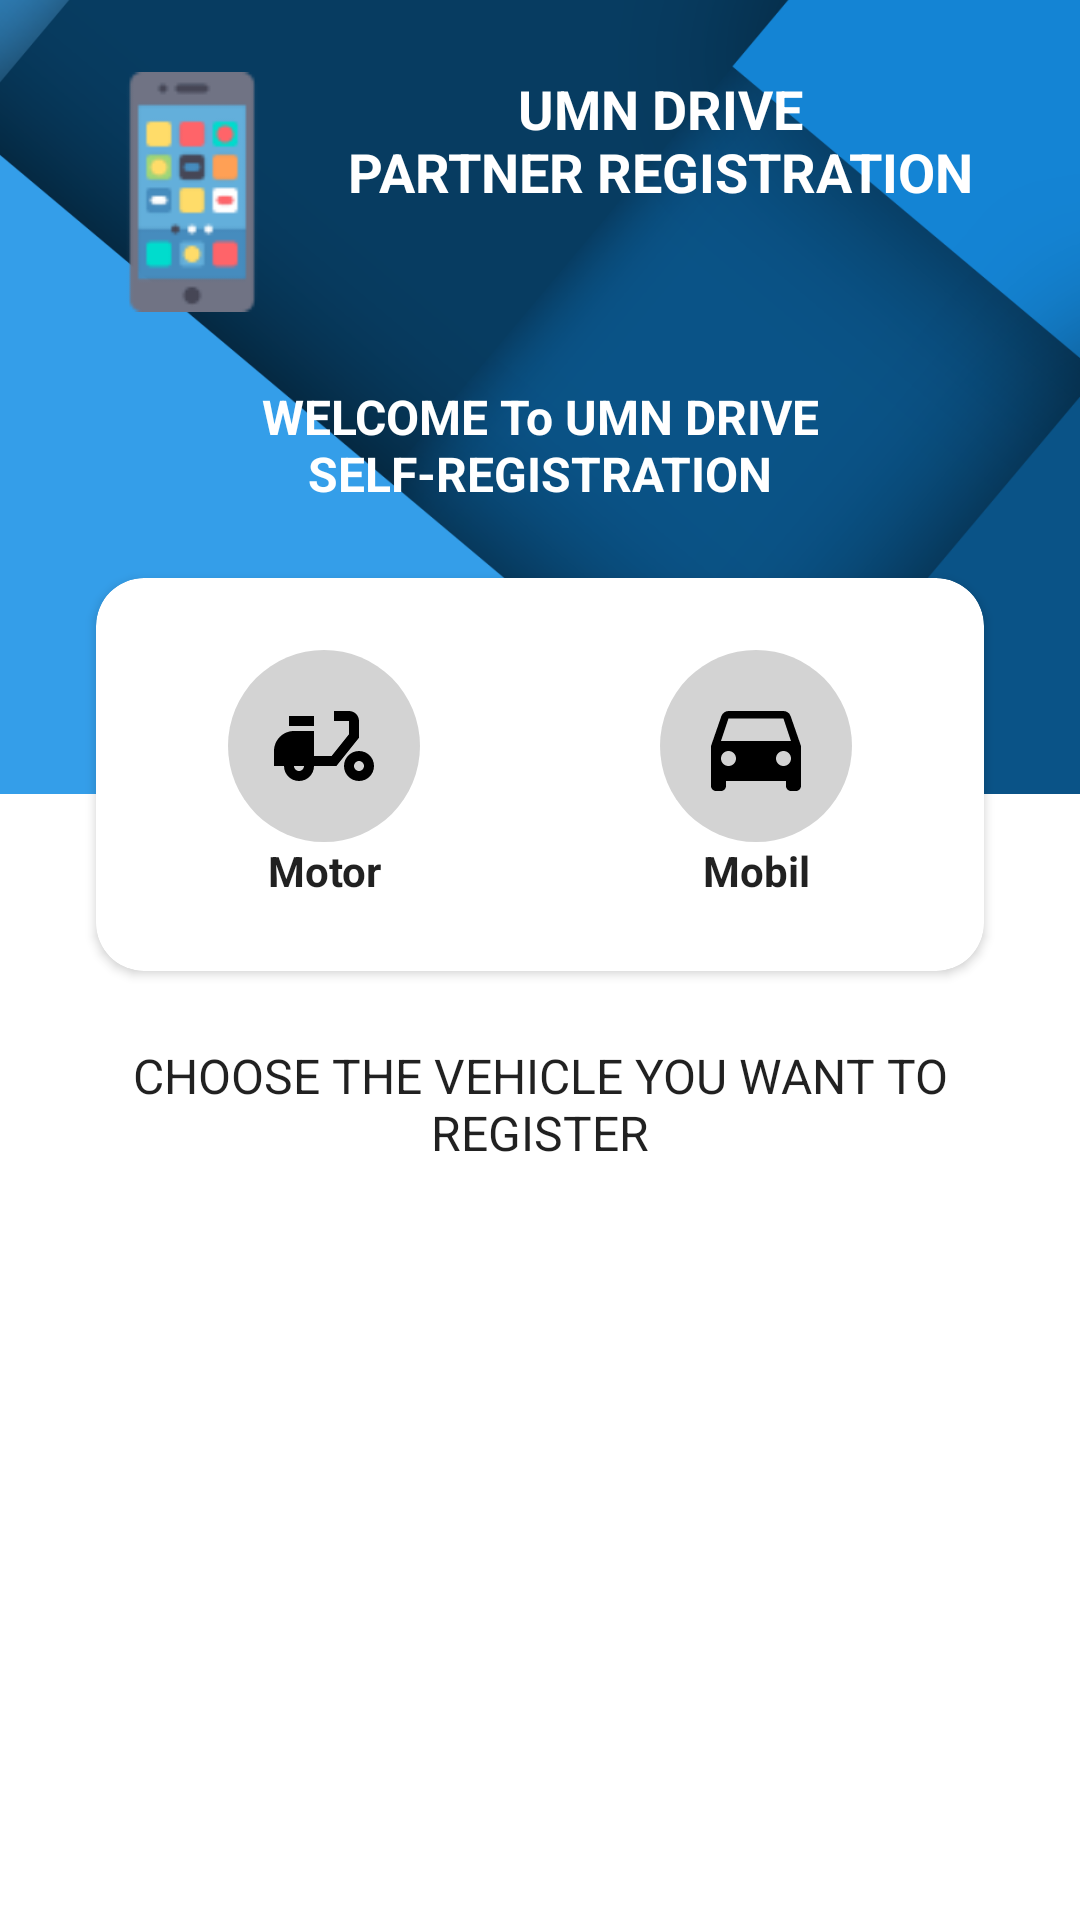

Screen size 1080*1920. Icon name, then its box in pixels as [x1,y1,x2,y2]:
delivery dining: [228,650,420,842]
phone: [72,72,255,312]
